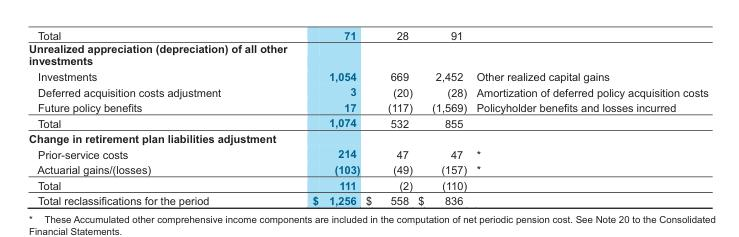table: (28, 28, 707, 206)
table column: (28, 28, 265, 206), (470, 28, 707, 206), (265, 28, 362, 206), (414, 28, 470, 206), (362, 28, 414, 206)
table column header: (28, 28, 707, 41)
table projected row header: (28, 41, 707, 68), (28, 130, 707, 145)
table row: (28, 41, 707, 68), (28, 83, 707, 99), (28, 114, 707, 130), (28, 145, 707, 161), (28, 176, 707, 192), (28, 68, 707, 83), (28, 99, 707, 114), (28, 130, 707, 145), (28, 161, 707, 176), (28, 192, 707, 206), (28, 28, 707, 41)
